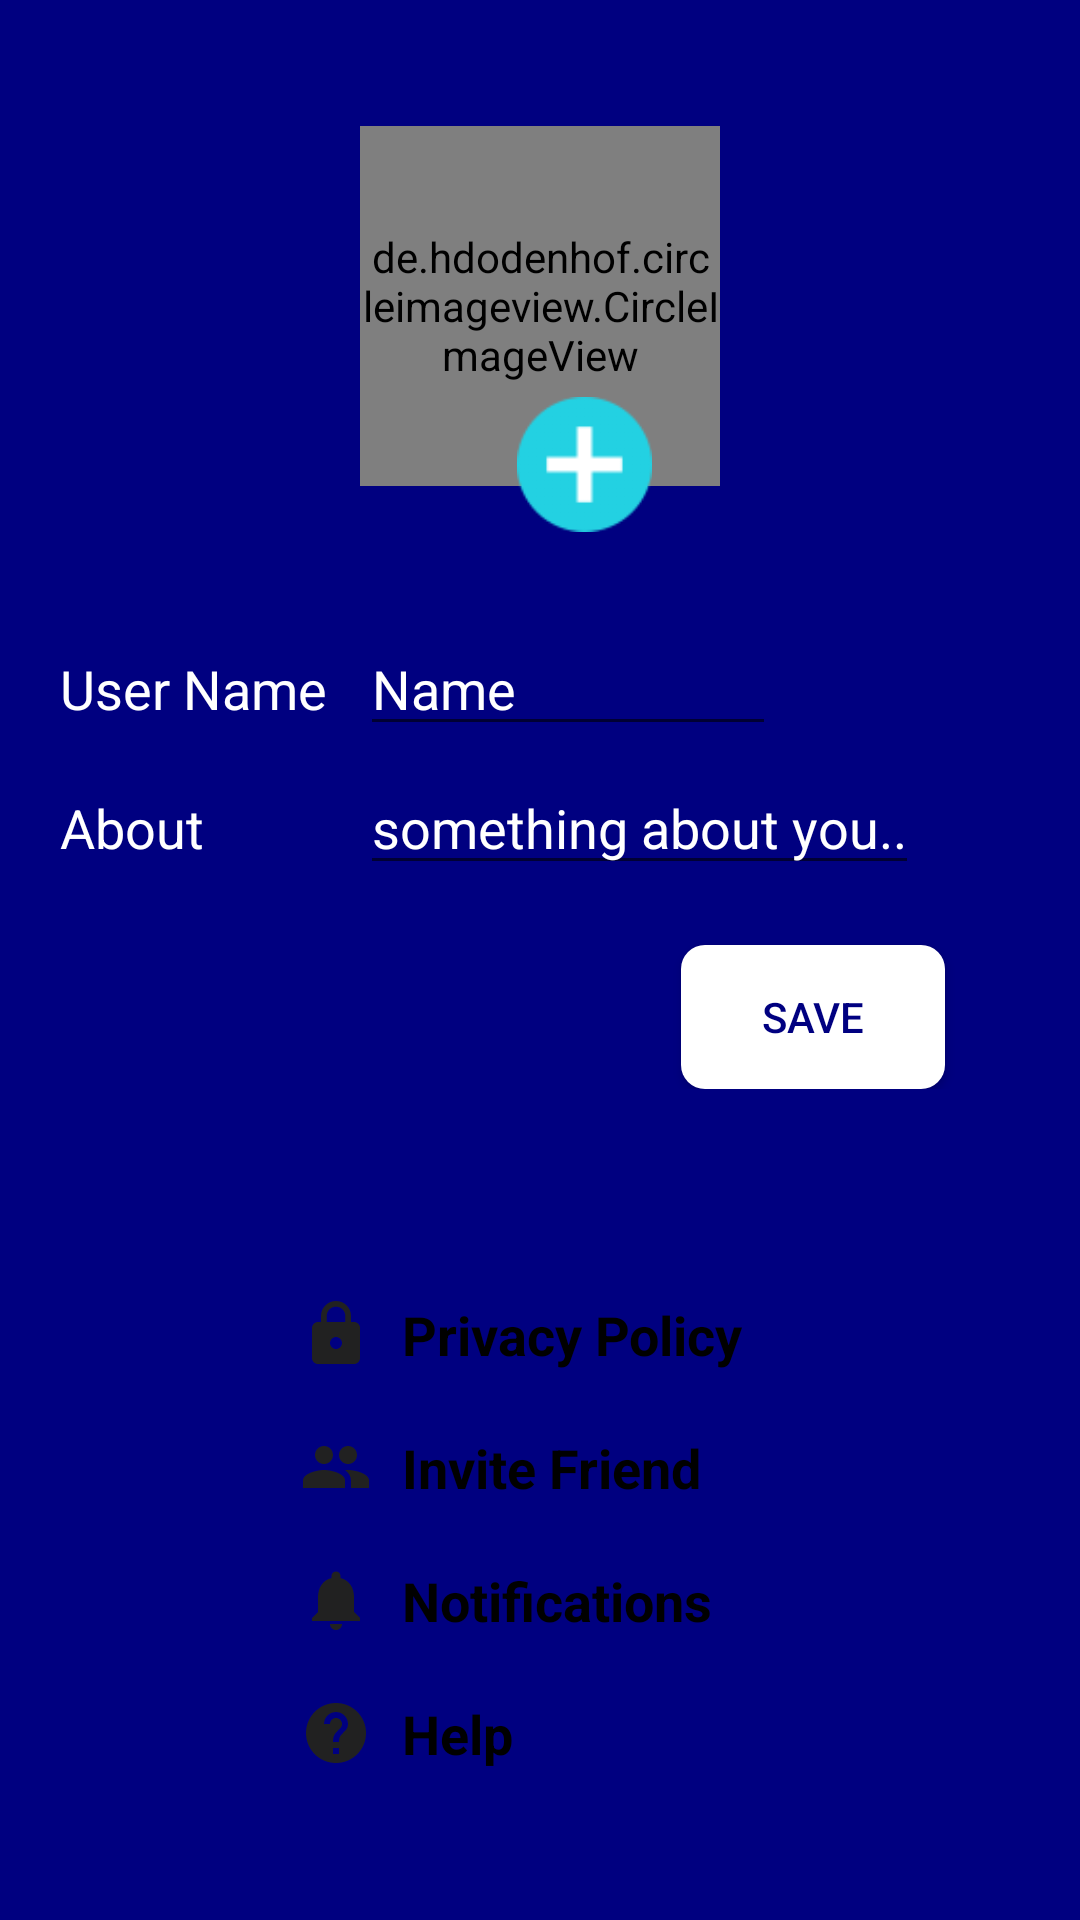

Named icons in this screenshot (1080*1920) and their centers, (x,y):
plusinsetting: (584,464)
